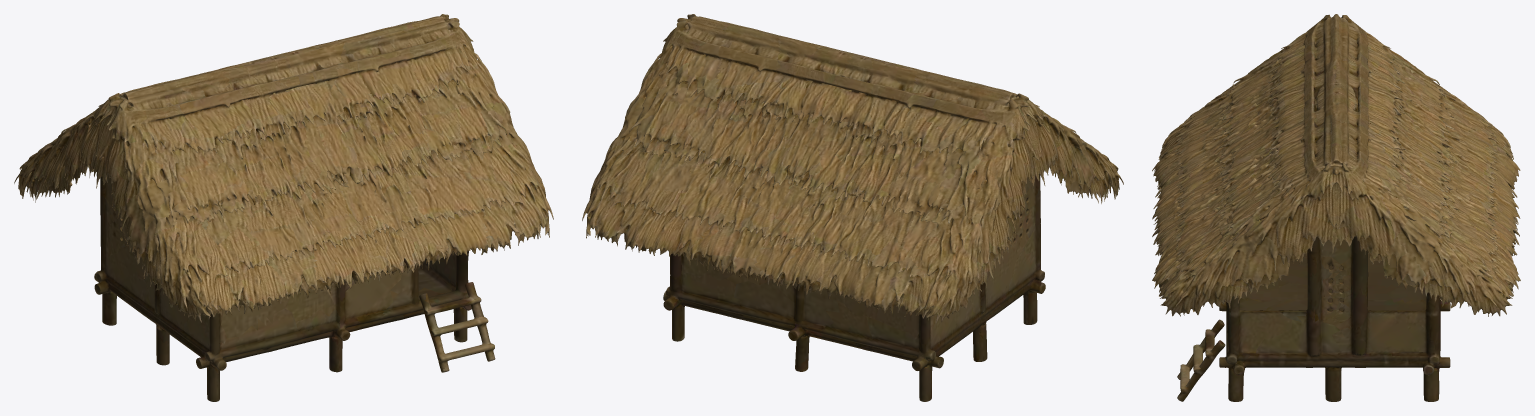
File: lan_na_nua_opt.glb
3 renders of one model, left to right at view 1: azimuth 30°, elevation 25°; view 2: azimuth 150°, elevation 25°; view 3: azimuth 270°, elevation 25°, orthographic. The views are drawn at different scales.
Visible parts, largest first — view 1: Meshy_AI_Forest_Haven_1021165345_texture; view 2: Meshy_AI_Forest_Haven_1021165345_texture; view 3: Meshy_AI_Forest_Haven_1021165345_texture.
Boxes of the visible parts, bbox=[...] form: Meshy_AI_Forest_Haven_1021165345_texture: bbox=[14, 14, 553, 401]; Meshy_AI_Forest_Haven_1021165345_texture: bbox=[582, 14, 1123, 401]; Meshy_AI_Forest_Haven_1021165345_texture: bbox=[1152, 14, 1520, 401].
Size of the model in its own units: 1.5 by 1.02 by 1.32.
1 material, 1 textured.
